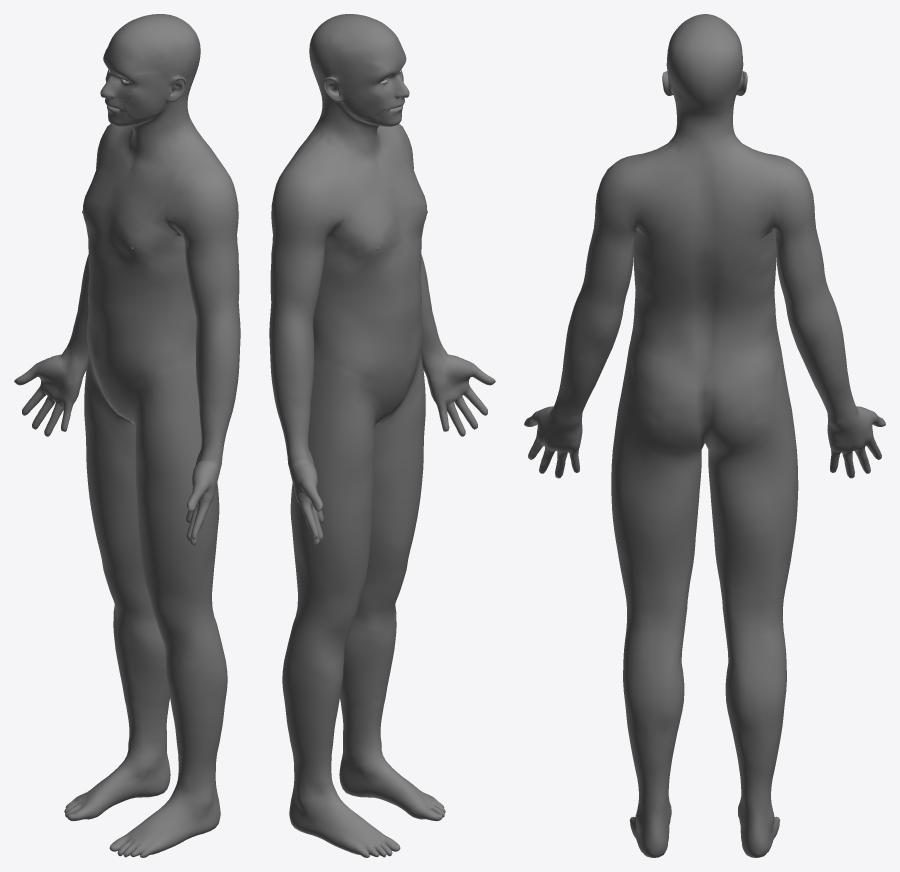
The picture shows the model from 3 angles, left to right: view 1: azimuth 30°, elevation 25°; view 2: azimuth 150°, elevation 25°; view 3: azimuth 270°, elevation 25°; orthographic projection. The views are drawn at different scales.
Visible parts, largest first — view 1: Skin; view 2: Skin; view 3: Skin.
Boxes of the visible parts, bbox=[...] form: Skin: bbox=[14, 14, 240, 857]; Skin: bbox=[269, 14, 495, 857]; Skin: bbox=[524, 14, 885, 857].
Bounding box in the file's own units: 0.2638 × 1.71 × 0.6809.
9 materials, 8 textured.
